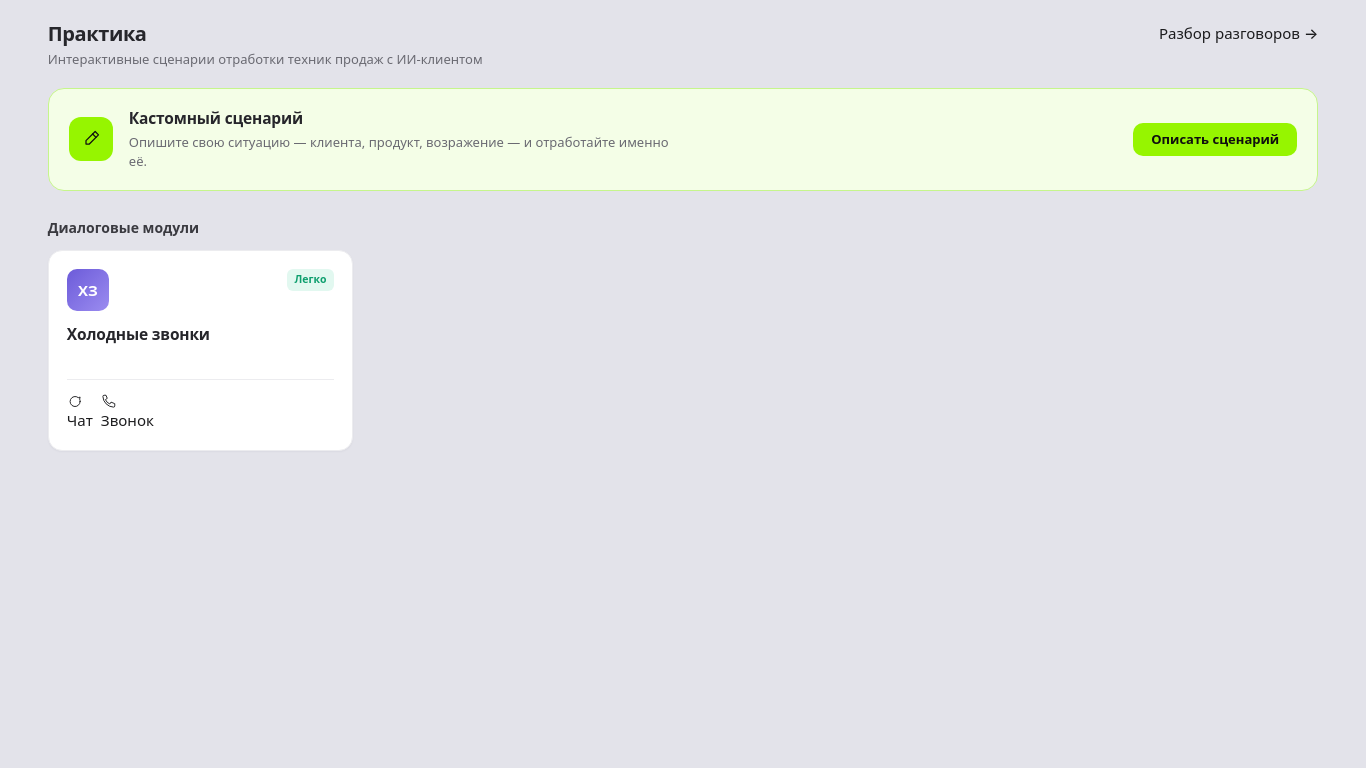
Practice page — custom scenario banner › opens the compose dialog once the hidden mode is resolved
Click the button "Описать сценарий". click: (1215, 139)
box: [1133,123,1297,156]
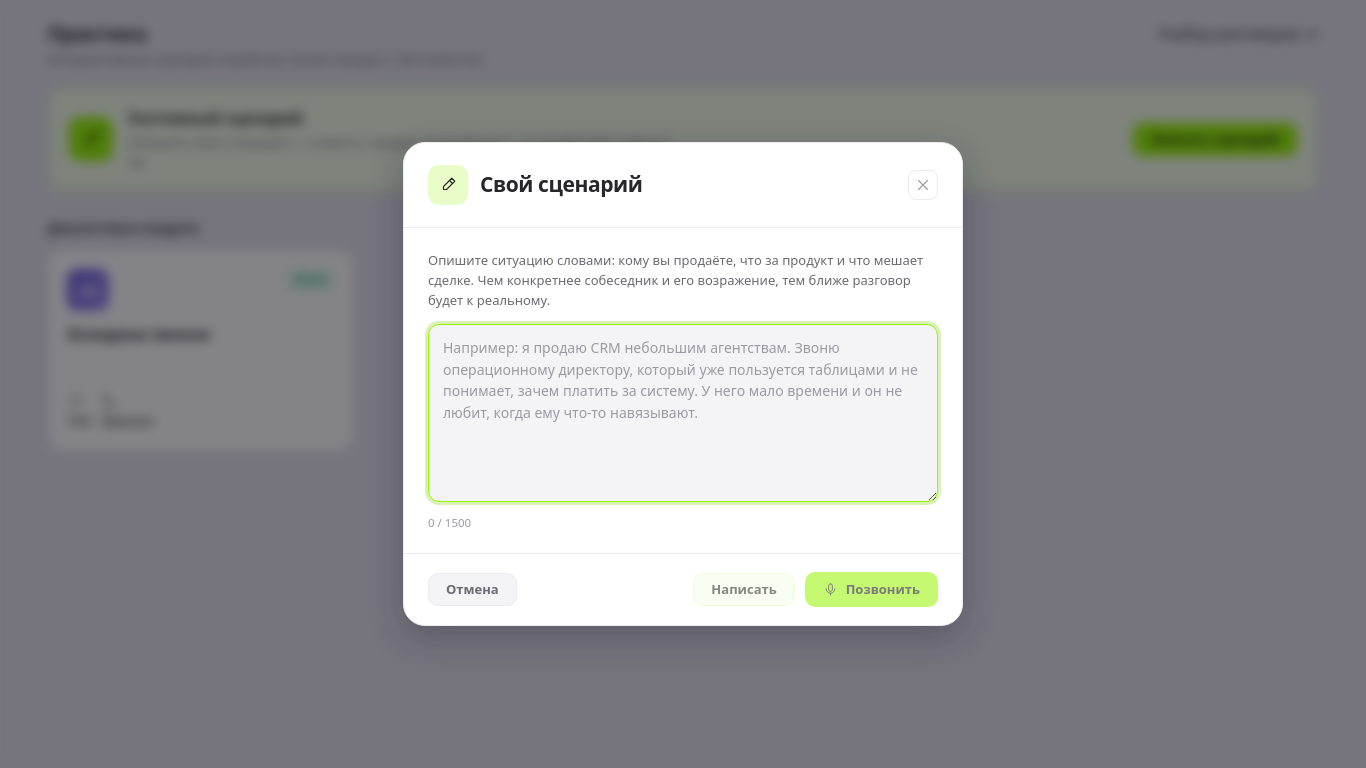
Now the heading "Свой сценарий" is shown, box [480,172,642,197]
